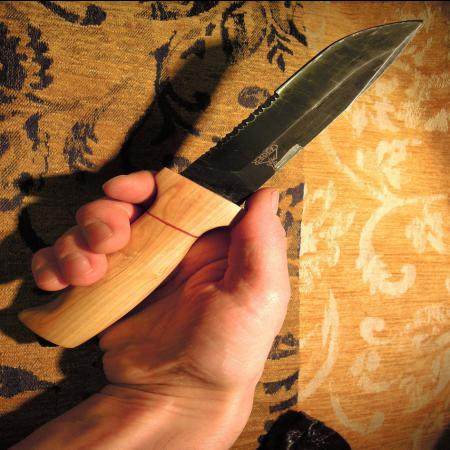long weapon: (7, 14, 434, 353)
